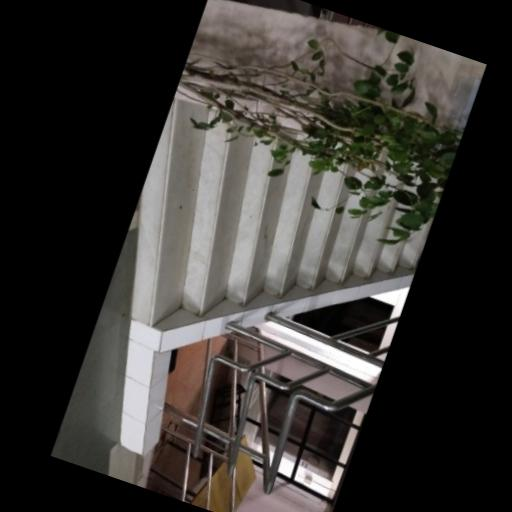stairs: (131, 99, 429, 327)
